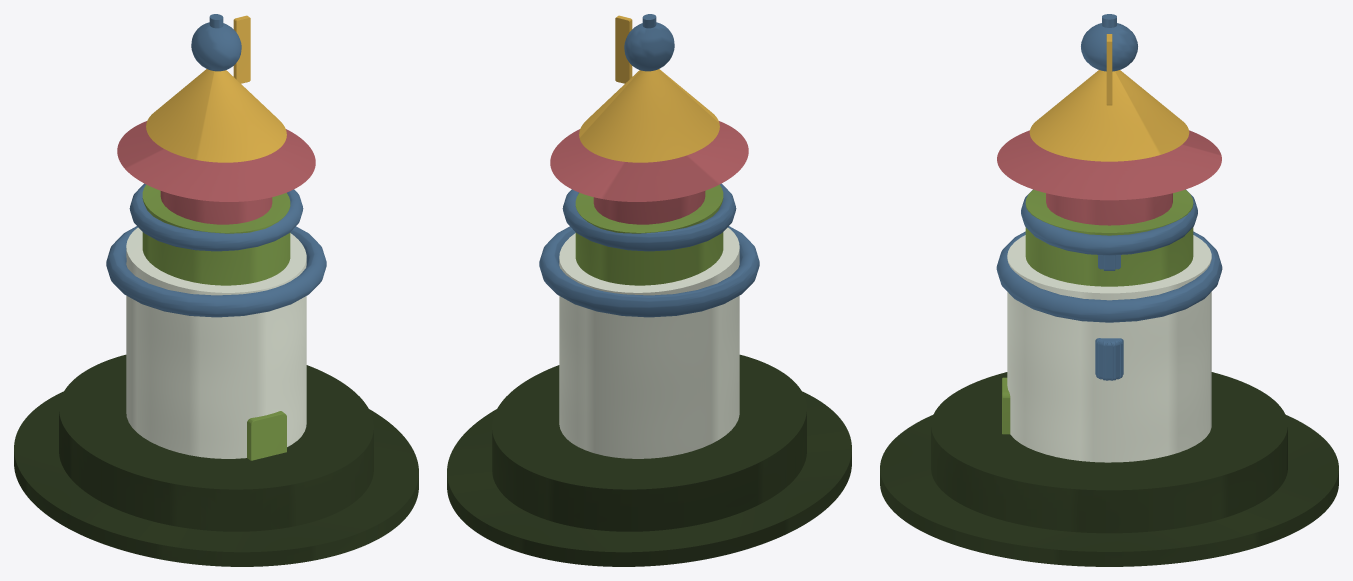
Rendered from 0810_中国建筑图鉴_少林寺钟楼.glb.
3 renders of one model, left to right at view 1: azimuth 30°, elevation 25°; view 2: azimuth 150°, elevation 25°; view 3: azimuth 270°, elevation 25°, orthographic.
Parts seen in each view (by area): view 1: card_0810; view 2: card_0810; view 3: card_0810.
Part boxes in pixels (box(x1,y1,x2,y2)): card_0810: box(14, 14, 418, 566); card_0810: box(447, 14, 851, 566); card_0810: box(880, 14, 1338, 566).
Size of the model in its own units: 0.7694 by 1 by 0.8916.
